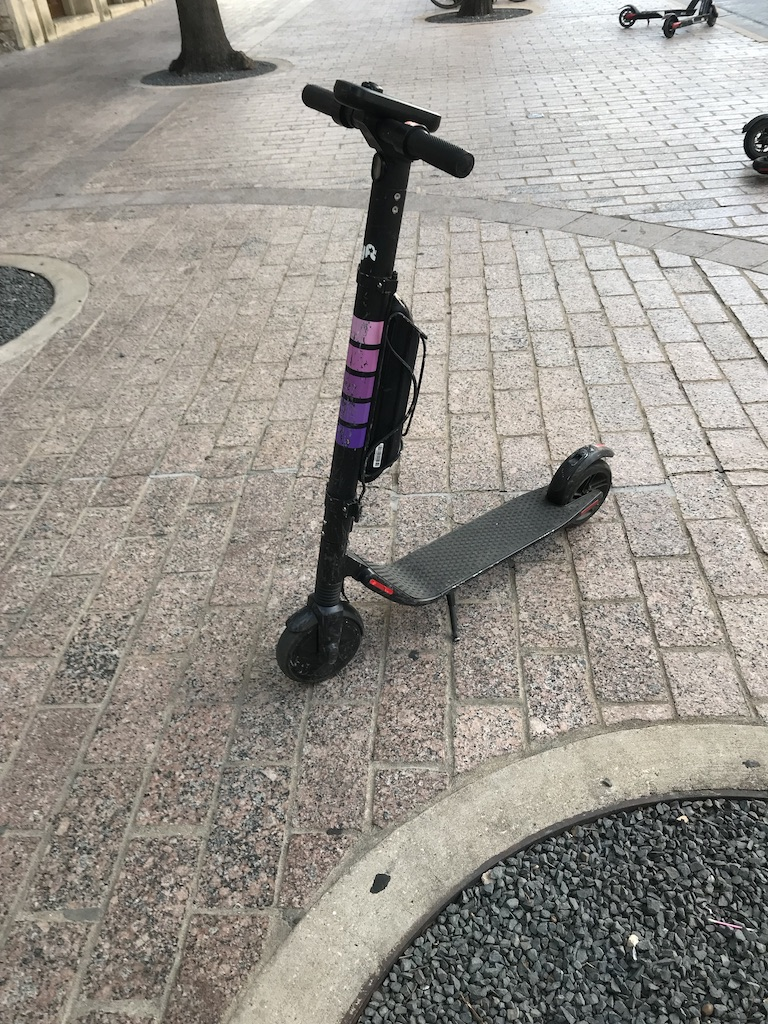scooter: (274, 80, 613, 684), (617, 2, 700, 29), (661, 1, 718, 40)
